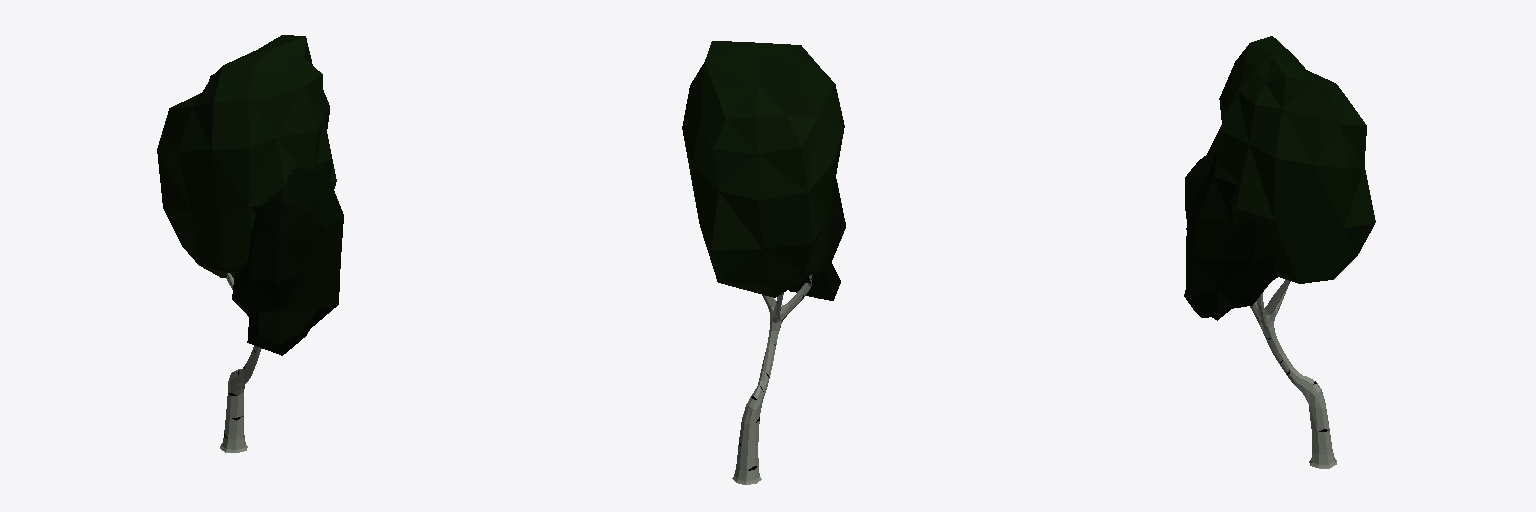
The model's file is BirchTree_2.obj.
3 renders of one model, left to right at view 1: azimuth 30°, elevation 25°; view 2: azimuth 150°, elevation 25°; view 3: azimuth 270°, elevation 25°, orthographic.
Parts seen in each view (by area): view 1: BirchTree_2_Cube.064; view 2: BirchTree_2_Cube.064; view 3: BirchTree_2_Cube.064.
Boxes of the visible parts, box(x1,y1,x2,y2) form: BirchTree_2_Cube.064: box(157, 35, 343, 452); BirchTree_2_Cube.064: box(682, 41, 845, 484); BirchTree_2_Cube.064: box(1184, 36, 1375, 468).
Size of the model in its own units: 1.47 by 4.03 by 1.69.